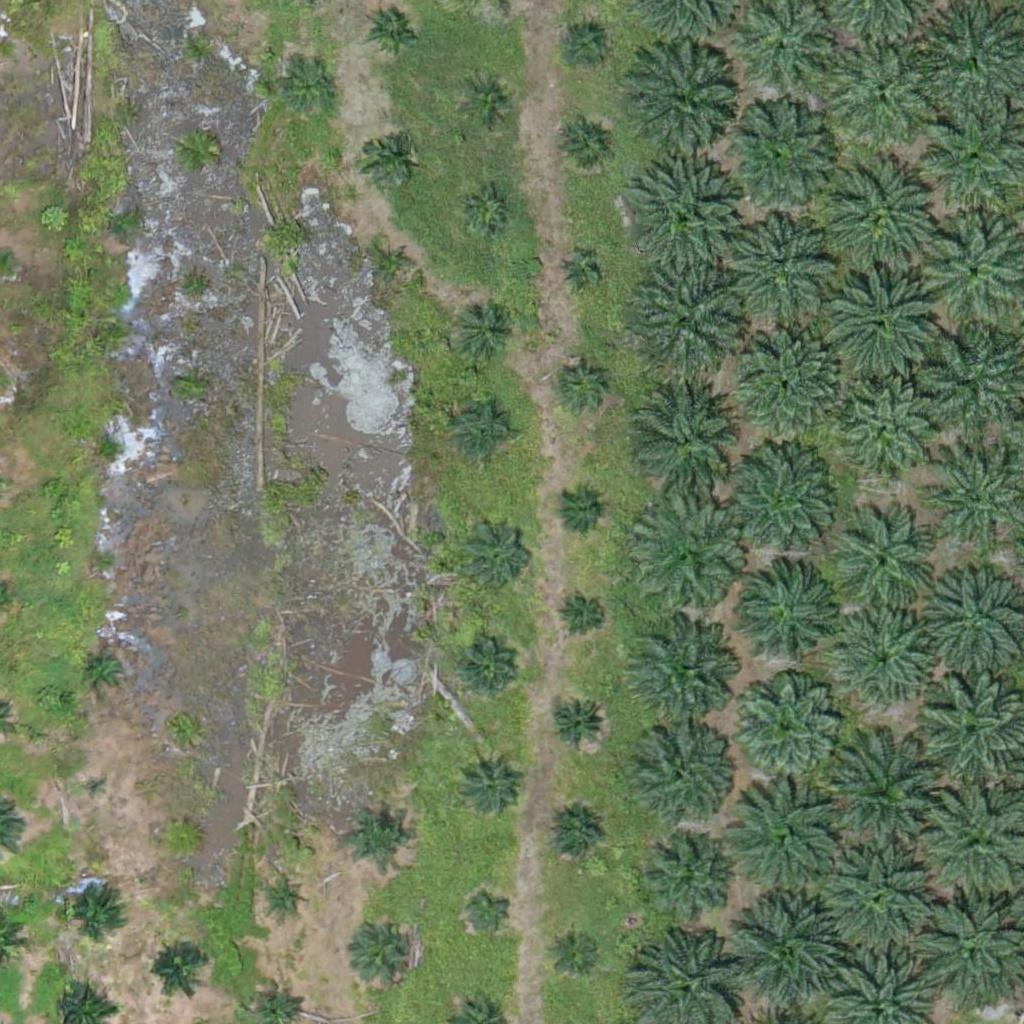Kelapa_Sawit: (826, 732, 951, 858), (821, 840, 934, 954), (731, 785, 844, 899), (729, 670, 842, 784), (633, 502, 746, 616), (732, 891, 845, 1004), (630, 161, 743, 274), (631, 263, 744, 376), (631, 378, 744, 491), (827, 33, 940, 146), (723, 447, 836, 560), (626, 621, 738, 735), (628, 50, 740, 163), (725, 99, 837, 212), (830, 157, 942, 270), (826, 264, 938, 377), (741, 330, 841, 431), (737, 216, 837, 317), (838, 384, 938, 485), (835, 516, 935, 617), (632, 719, 732, 820), (836, 609, 936, 709), (740, 563, 840, 663), (642, 836, 730, 924), (460, 515, 535, 590), (358, 919, 421, 982), (347, 803, 410, 866), (62, 875, 125, 938), (456, 642, 519, 705), (546, 692, 609, 755), (147, 937, 209, 1000), (456, 302, 518, 365), (455, 399, 517, 462), (457, 753, 519, 816), (543, 804, 605, 867), (558, 359, 608, 410), (549, 921, 599, 972), (464, 883, 514, 934), (554, 483, 604, 534), (284, 67, 334, 117), (360, 131, 410, 181), (462, 187, 512, 237), (463, 78, 513, 128), (558, 591, 608, 641), (560, 19, 610, 69), (561, 122, 611, 172), (80, 645, 130, 695), (267, 879, 305, 917), (377, 245, 415, 283), (560, 254, 598, 292), (164, 819, 202, 857), (84, 773, 109, 798)
